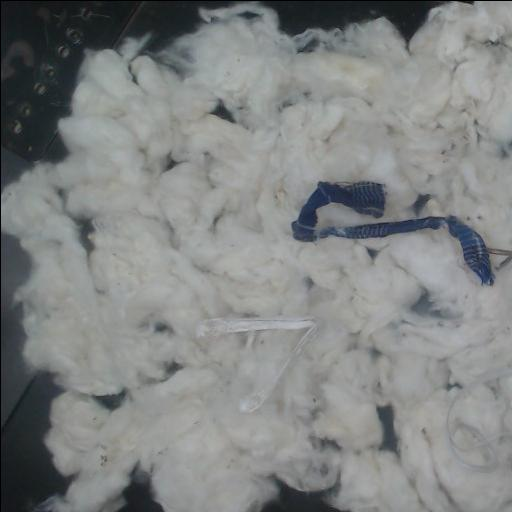cloth: (291, 182, 512, 284)
conveyor belt: (1, 1, 230, 190), (1, 234, 67, 512), (265, 1, 437, 39), (263, 481, 339, 512), (119, 472, 162, 512), (378, 406, 395, 449), (214, 105, 231, 119)
cotton: (1, 1, 512, 512)
thread: (196, 317, 315, 411), (446, 365, 512, 472)
